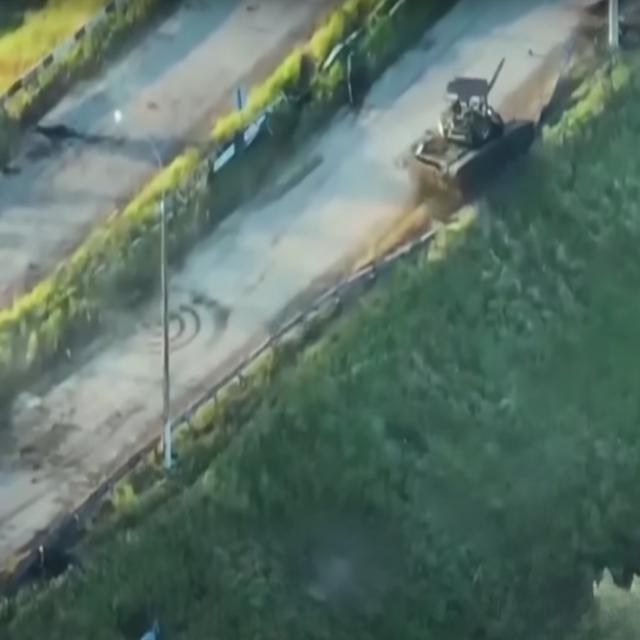MBT: (408, 54, 538, 215)
